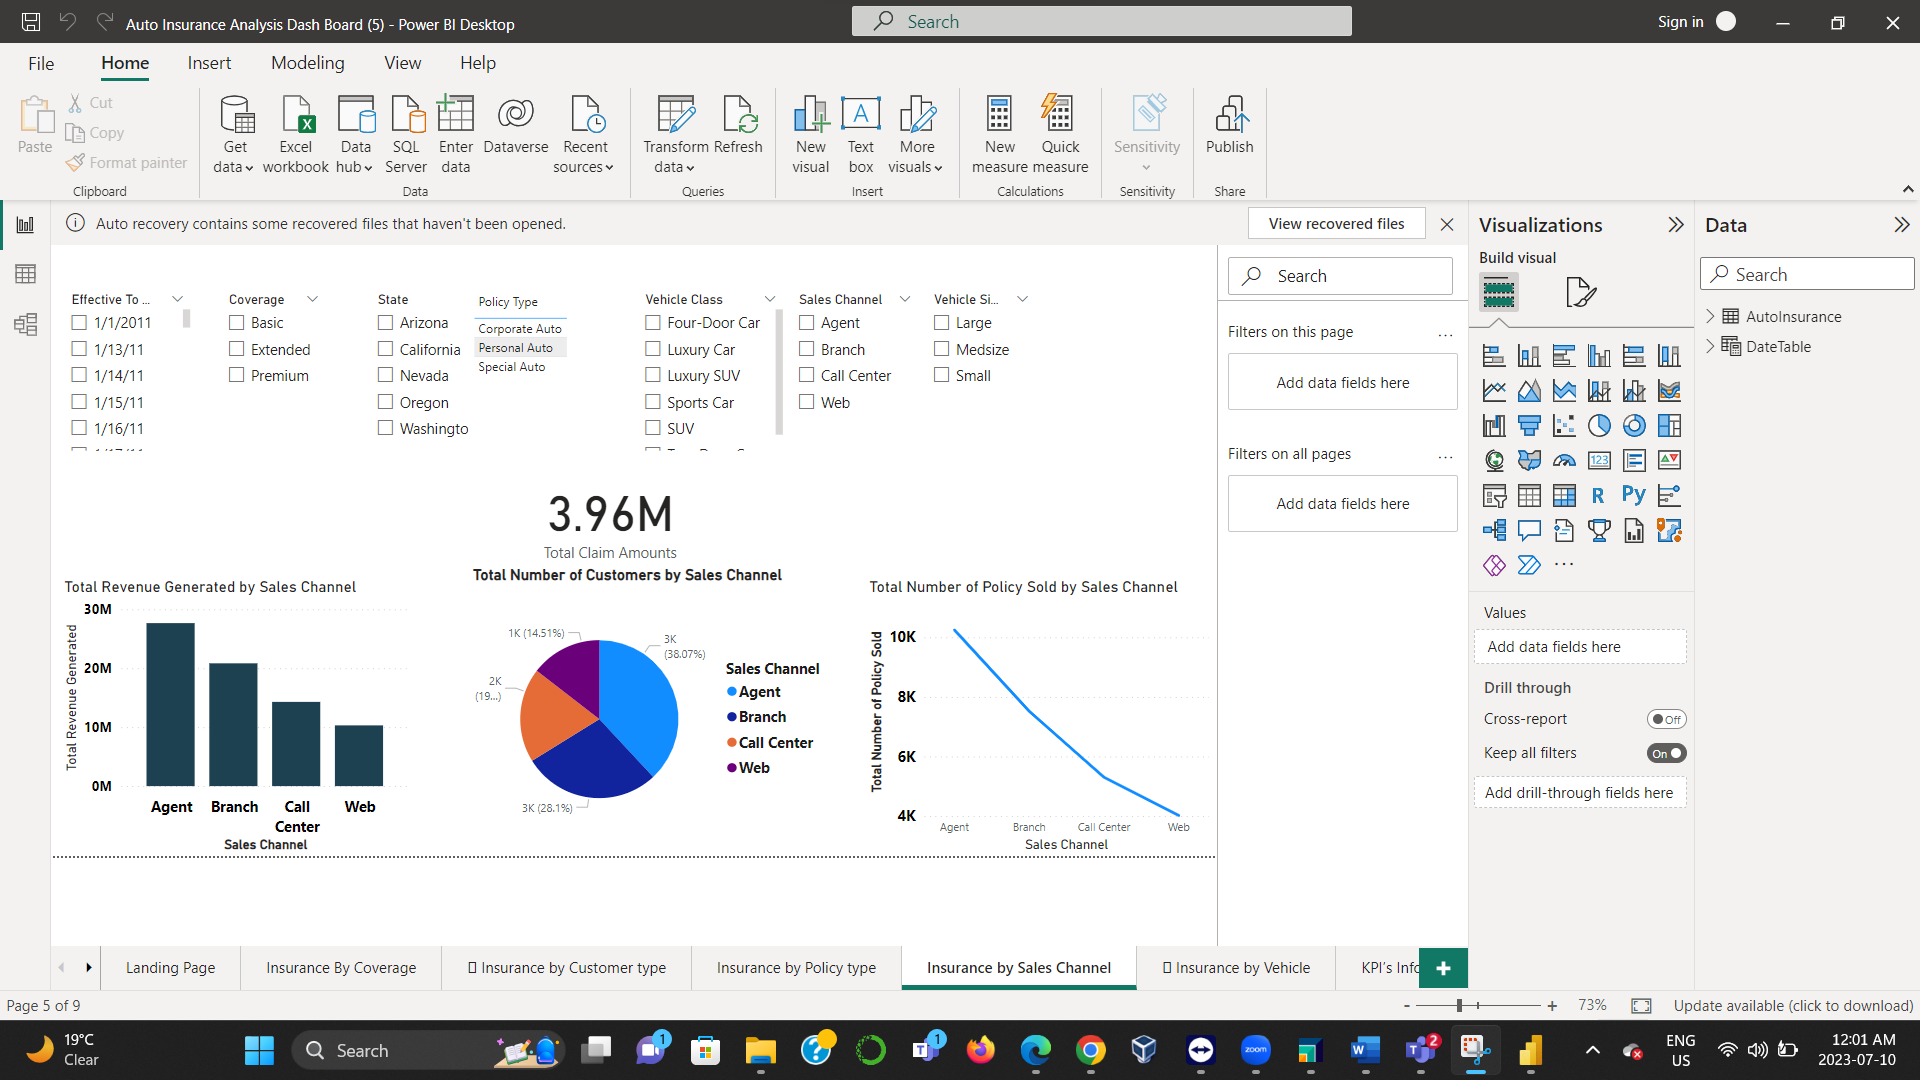

What the dashboard file says about the page in this screenshot:
{"tool":"powerbi","page":{"name":"Insurance by Sales Channel  ","canvas":[1280,720],"ordinal":4},"visuals":[{"type":"slicer","fields":{"Values":["AutoInsurance.Effective To Date"]},"box":[9.6,96.1,148.2,183.9],"z":0},{"type":"slicer","fields":{"Values":["AutoInsurance.Coverage"]},"box":[182.5,96.1,123.5,183.9],"z":1000},{"type":"slicer","fields":{"Values":["AutoInsurance.State"]},"box":[345.8,96.1,161.9,183.9],"z":2000},{"type":"slicer","fields":{"Values":["AutoInsurance.Vehicle Class"]},"box":[639.5,96.1,168.8,183.9],"z":3000},{"type":"tableEx","fields":{"Values":["AutoInsurance.Policy Type"]},"box":[458.3,96.1,134.5,183.9],"z":4000},{"type":"slicer","fields":{"Values":["AutoInsurance.Sales Channel"]},"box":[808.2,96.1,148.2,183.9],"z":5000},{"type":"slicer","fields":{"Values":["AutoInsurance.Vehicle Size"]},"box":[956.4,96.1,129,183.9],"z":6000},{"type":"textbox","box":[332.1,0,94.7,72.7],"z":7000},{"type":"textbox","box":[345.8,0,634,59],"z":8000},{"type":"card","fields":{"Values":["AutoInsurance.Total Claim Amounts"]},"box":[458.3,282.7,311.5,131.7],"z":9000},{"type":"columnChart","fields":{"Category":["AutoInsurance.Sales Channel"],"Y":["AutoInsurance.Total Revenue Generated"]},"box":[9.6,414.4,389.7,306],"z":10000},{"type":"pieChart","fields":{"Y":["AutoInsurance.Total Number of Customers"],"Category":["AutoInsurance.Sales Channel"]},"box":[458.3,400.7,414.4,319.7],"z":11000},{"type":"lineChart","fields":{"Y":["AutoInsurance.Total Number of Policy Sold"],"Category":["AutoInsurance.Sales Channel"]},"box":[893.6,414.9,383,305.7],"z":12000}]}

Visuals, with their boxes on the page's 1280x720 design canvas (x1, y1, x2, y2). These are canvas units, not pixel positions in the 1920x1080 screenshot, which may show the page scaled, cropped or inside an application window:
slicer - AutoInsurance.Effective To Date: detection(10, 96, 158, 280)
slicer - AutoInsurance.Coverage: detection(182, 96, 306, 280)
slicer - AutoInsurance.State: detection(346, 96, 508, 280)
slicer - AutoInsurance.Vehicle Class: detection(640, 96, 808, 280)
tableEx - AutoInsurance.Policy Type: detection(458, 96, 593, 280)
slicer - AutoInsurance.Sales Channel: detection(808, 96, 956, 280)
slicer - AutoInsurance.Vehicle Size: detection(956, 96, 1085, 280)
textbox: detection(332, 0, 427, 73)
textbox: detection(346, 0, 980, 59)
card - AutoInsurance.Total Claim Amounts: detection(458, 283, 770, 414)
columnChart - AutoInsurance.Sales Channel x AutoInsurance.Total Revenue Generated: detection(10, 414, 399, 720)
pieChart - AutoInsurance.Total Number of Customers x AutoInsurance.Sales Channel: detection(458, 401, 873, 720)
lineChart - AutoInsurance.Total Number of Policy Sold x AutoInsurance.Sales Channel: detection(894, 415, 1277, 721)
